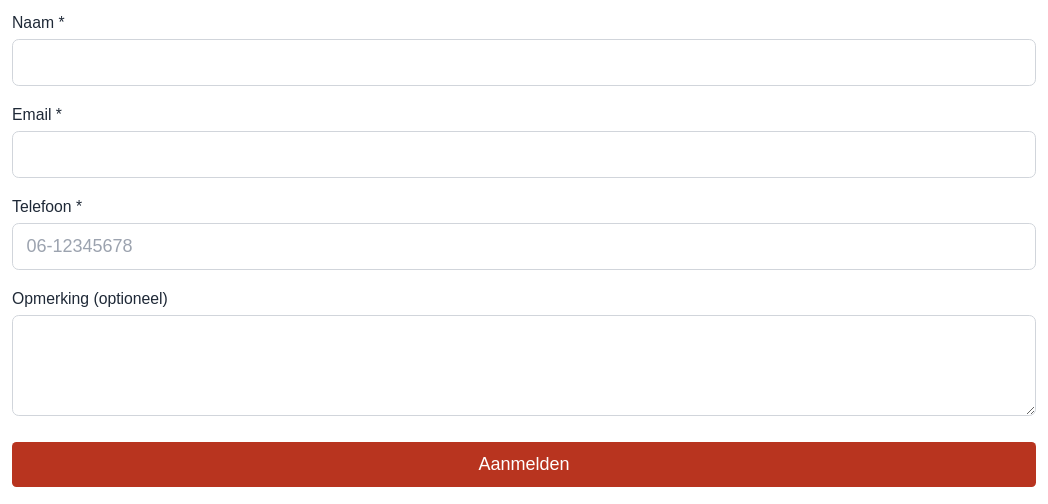
Test: AanmeldForm Component › Loading State › 9. Disables submit button during loading
Type "John Doe" into the field labelled "Naam *". click: (524, 62)
box: [12, 39, 1036, 86]
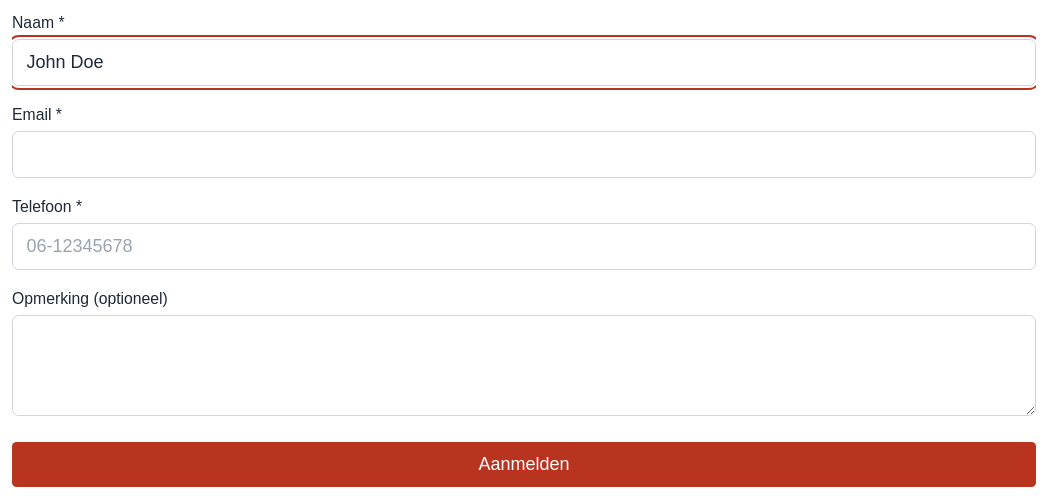
Type "john@example.com" into the field labelled "Email *". click: (524, 154)
box: [12, 131, 1036, 178]
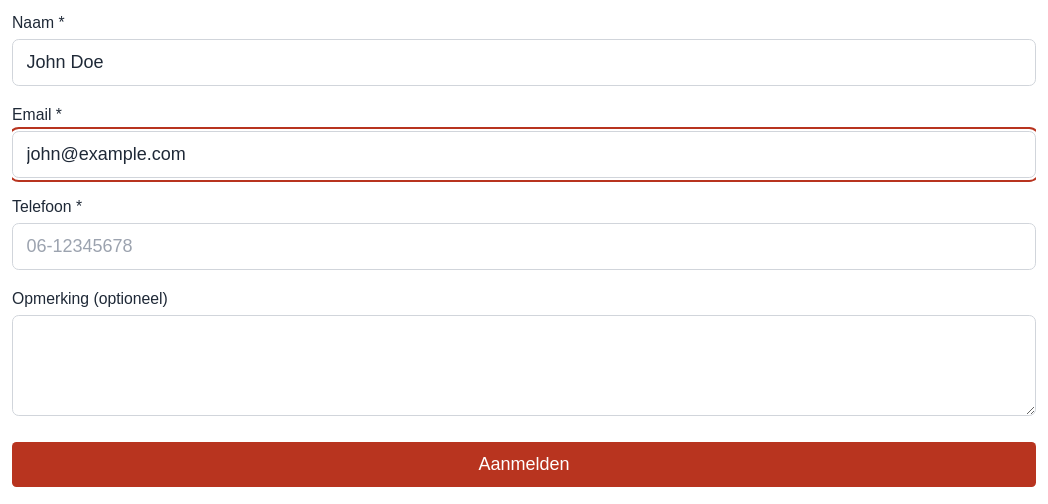
Type "0612345678" into the field labelled "Telefoon *". click: (524, 246)
box: [12, 223, 1036, 270]
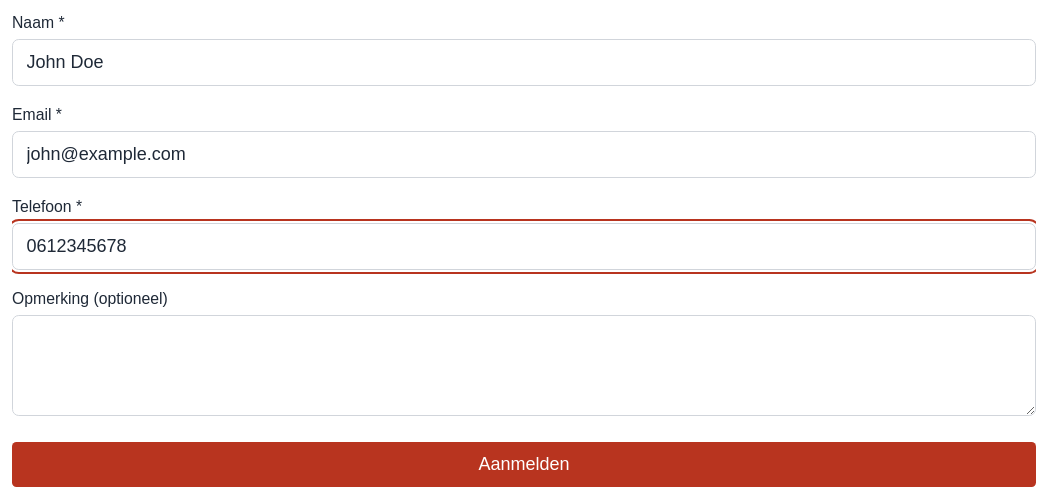
Click the button "Aanmelden". click: (524, 464)
box: [12, 442, 1036, 487]
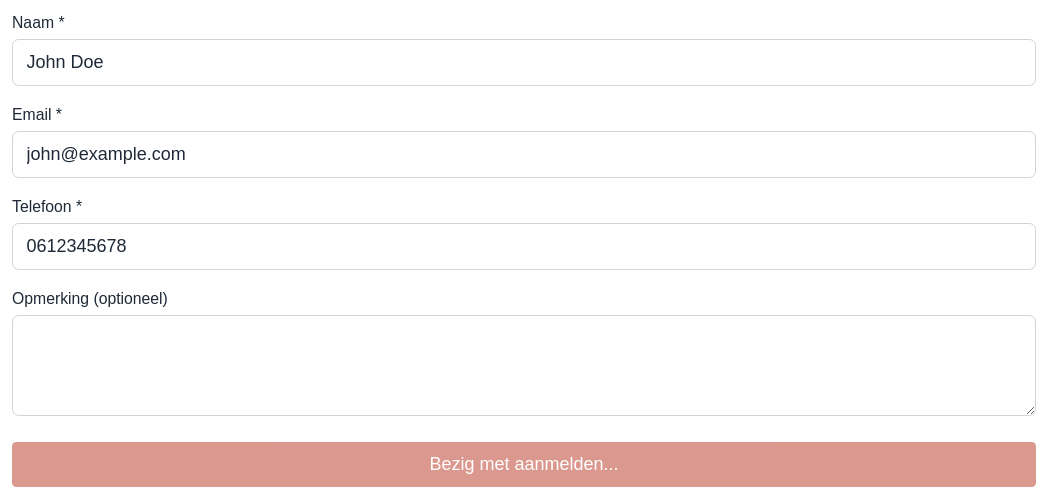
Check: the button "Bezig met aanmelden..." is disabled, box [12, 442, 1036, 487]
